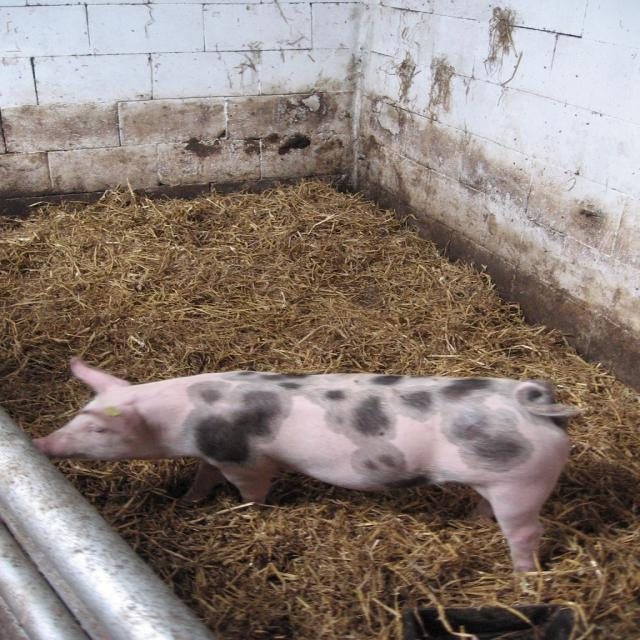Pig: (34, 356, 584, 590)
